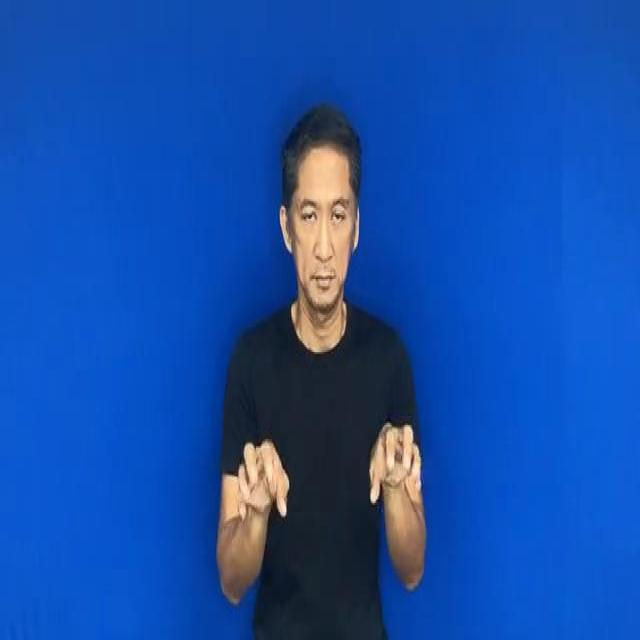egg: (222, 402, 440, 531)
